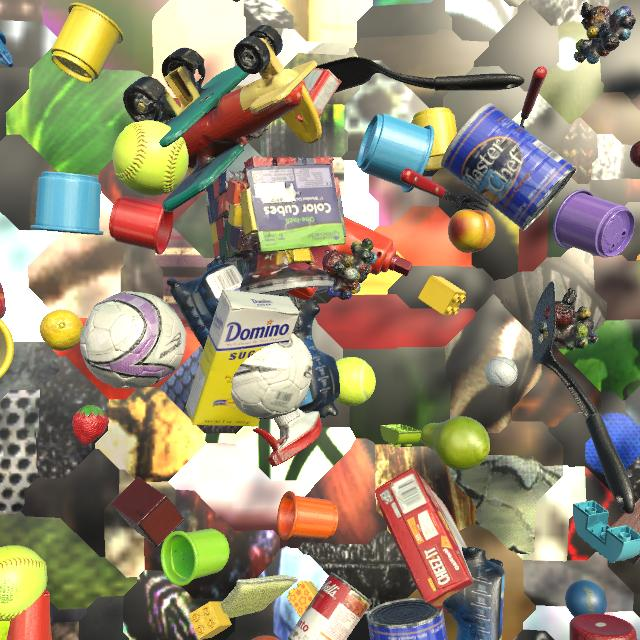ycb_002_master_chef_can: (441, 103, 577, 231), (366, 598, 448, 640)
ycb_003_cracker_box: (376, 468, 474, 616)
ycb_004_sugar_box: (185, 289, 299, 426)
ycb_005_tomato_soup_can: (288, 572, 372, 640)
ycb_009_gelatin_box: (280, 68, 342, 122)
ycb_012_strawberry: (72, 405, 109, 445)
ycb_013_apple: (0, 283, 6, 319)
ycb_014_lemon: (40, 309, 83, 351)
ycb_015_peach: (448, 209, 496, 253)
ycb_016_pear: (420, 416, 490, 470)
ycb_017_orange: (252, 635, 280, 640)
